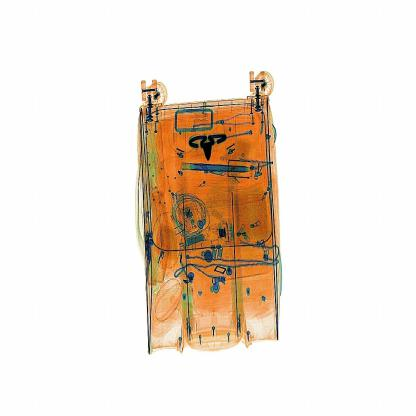gun: (186, 120, 242, 166)
